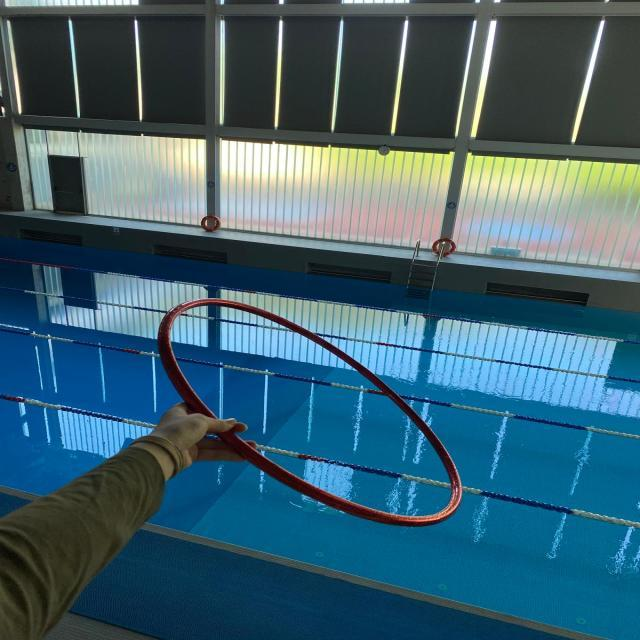Circle: (153, 294, 469, 530)
